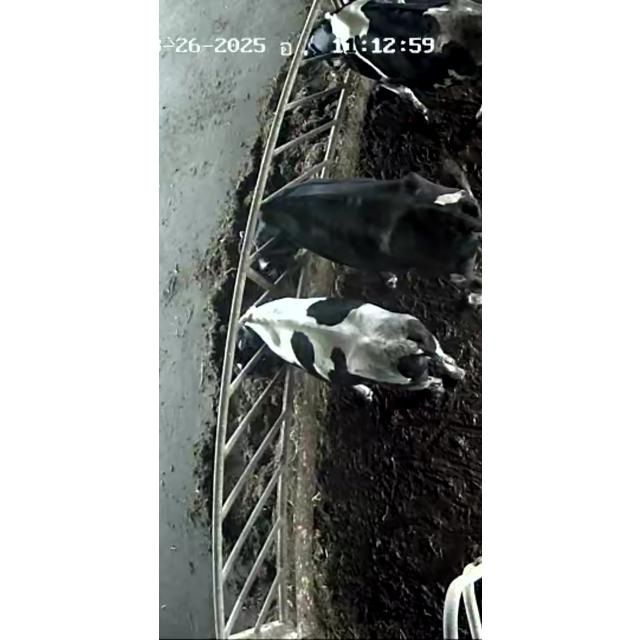eat: (194, 161, 346, 251), (193, 284, 334, 371), (261, 4, 397, 84)
